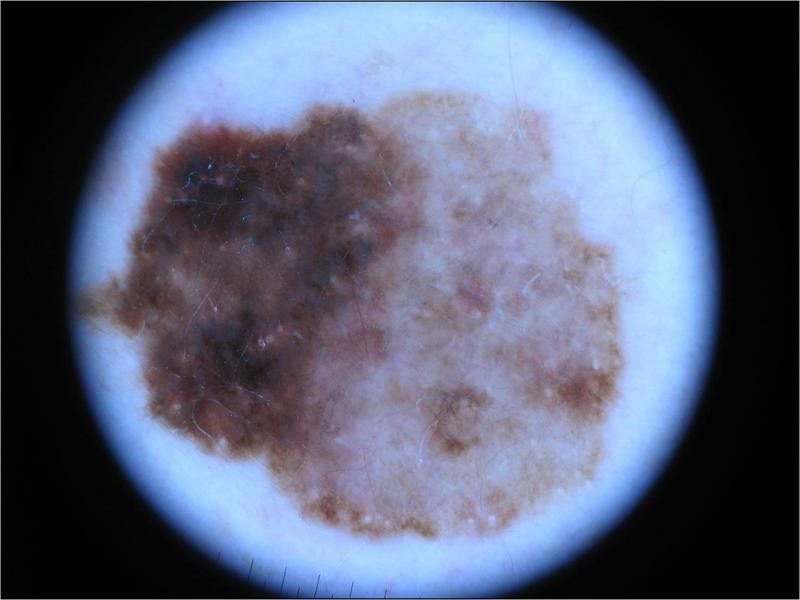Malignant: (142, 84, 593, 506)
